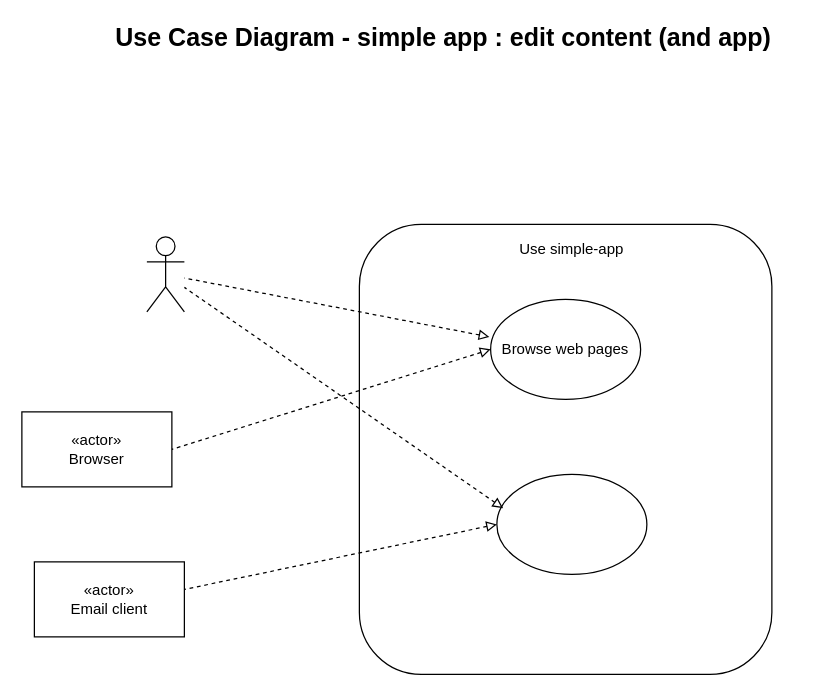
This 819x696 diagram has some shape labels left out. Here are the shapes that lost their labels. From the top down, the centre of each, then its label:
At (x=165, y=274): "End user".
At (x=571, y=523): "Send message form".
